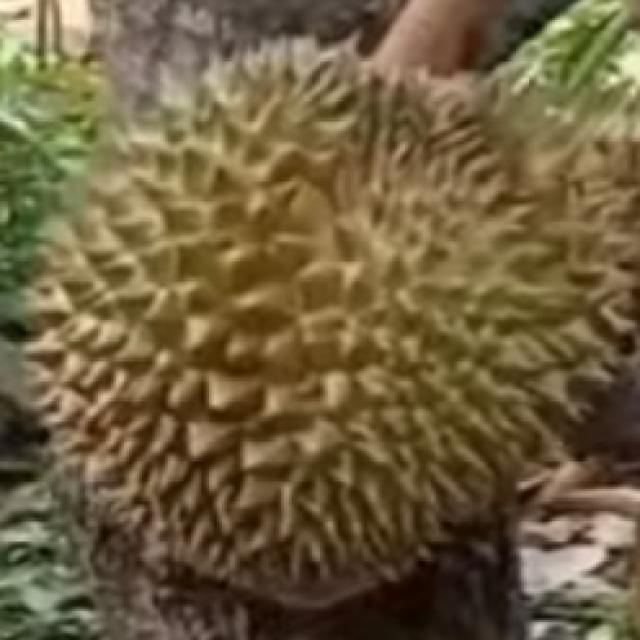mature: (30, 35, 640, 607)
